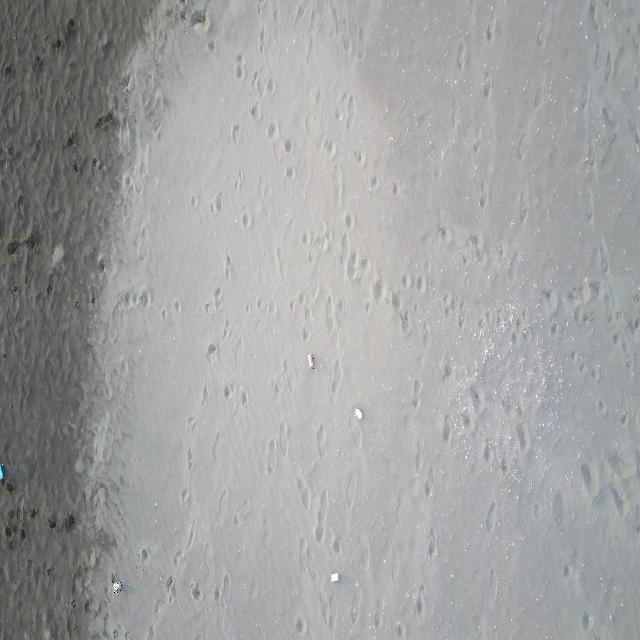tin-and-aluminum-cans: (329, 571, 340, 585), (354, 406, 363, 422), (306, 352, 314, 369), (112, 581, 122, 594), (0, 459, 5, 482)
